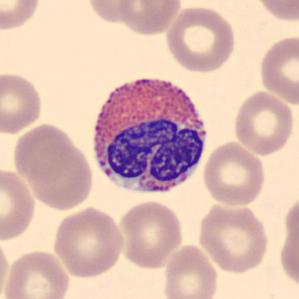Eosinophil: (84, 67, 214, 201)
RBC: (22, 133, 96, 212), (196, 200, 272, 275), (51, 204, 126, 280), (162, 4, 238, 74), (115, 198, 186, 270), (201, 139, 268, 208), (231, 89, 296, 156), (10, 121, 74, 183), (1, 247, 70, 299), (161, 243, 220, 299), (0, 69, 45, 136), (257, 33, 298, 106), (0, 166, 38, 242), (115, 0, 183, 36), (276, 191, 299, 292), (85, 0, 142, 25), (0, 0, 43, 32), (248, 0, 299, 24), (0, 232, 12, 298)
